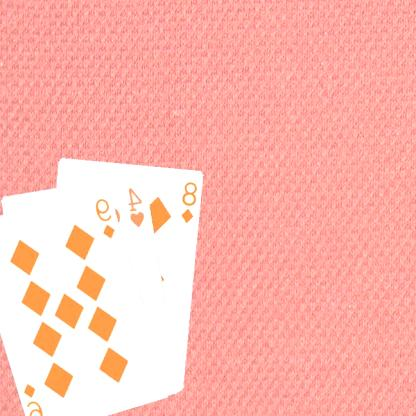4H: (127, 184, 148, 229)
8D: (180, 178, 201, 224)
9D: (93, 195, 118, 240), (22, 380, 47, 416)
